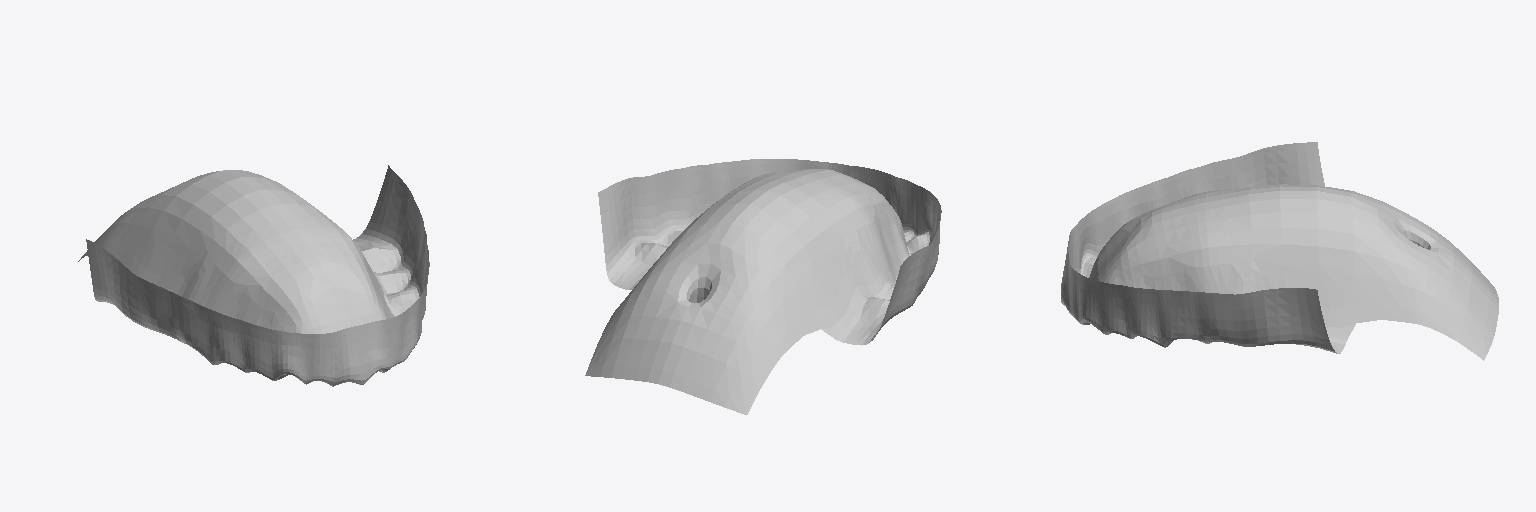
The model's file is Victor_upperGums.obj.
3 renders of one model, left to right at view 1: azimuth 30°, elevation 25°; view 2: azimuth 150°, elevation 25°; view 3: azimuth 270°, elevation 25°, orthographic.
Parts seen in each view (by area): view 1: Victor_upperGums Victor_Mesh def:geo FTI_Victor; view 2: Victor_upperGums Victor_Mesh def:geo FTI_Victor; view 3: Victor_upperGums Victor_Mesh def:geo FTI_Victor.
Boxes of the visible parts, x1=… form: Victor_upperGums Victor_Mesh def:geo FTI_Victor: x1=78, y1=165, x2=429, y2=386; Victor_upperGums Victor_Mesh def:geo FTI_Victor: x1=585, y1=159, x2=941, y2=414; Victor_upperGums Victor_Mesh def:geo FTI_Victor: x1=1061, y1=142, x2=1498, y2=360.
Size of the model in its own units: 0.95 by 0.3921 by 1.19.